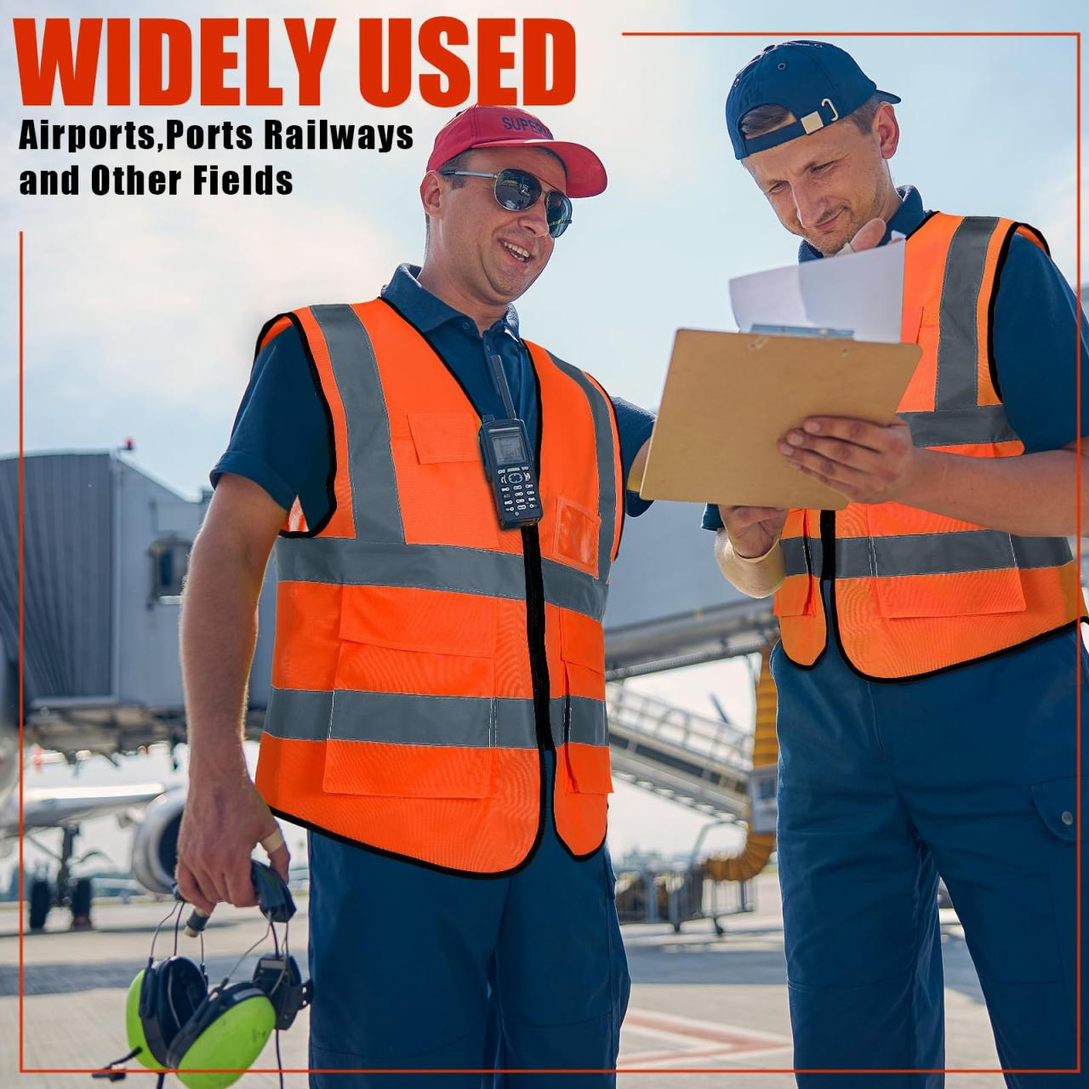Person: (150, 77, 729, 1089), (660, 20, 1089, 1089)
Safety_Vest: (242, 293, 638, 896), (767, 216, 1074, 678)
